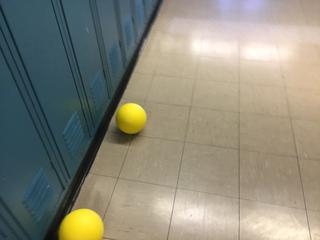power_cell: (55, 204, 105, 240), (114, 102, 150, 138)
